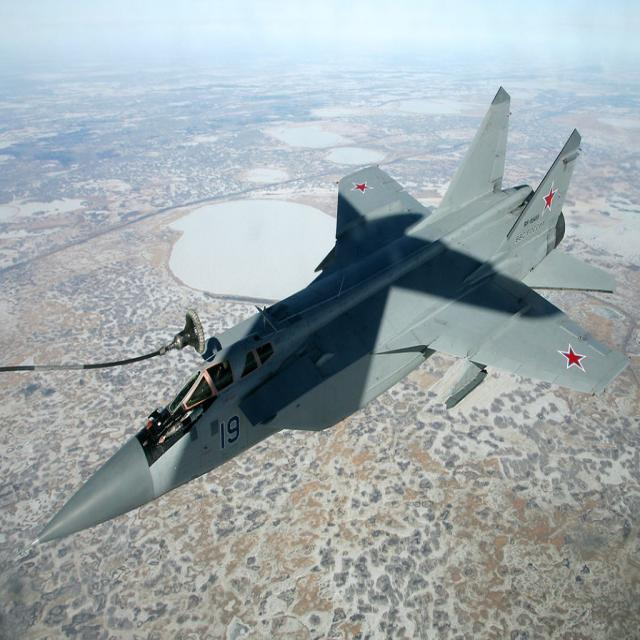MIL_Plane: (7, 83, 630, 562)
